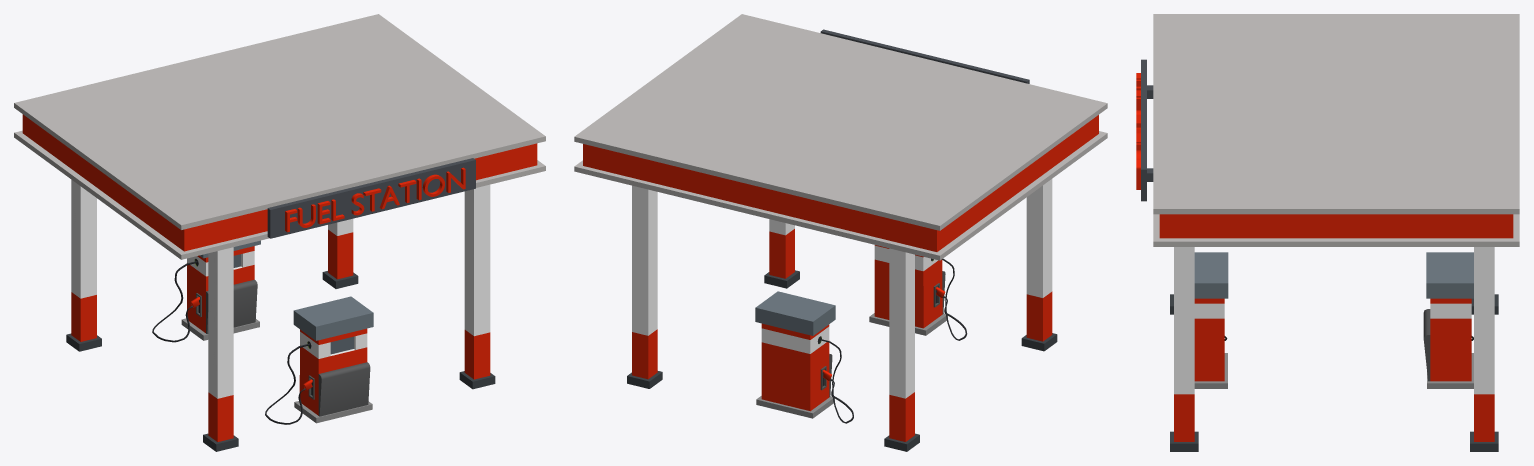
Rendered from FuelStation_1.fbx.
The picture shows the model from 3 angles, left to right: view 1: azimuth 30°, elevation 25°; view 2: azimuth 150°, elevation 25°; view 3: azimuth 270°, elevation 25°; orthographic projection. The views are drawn at different scales.
Visible parts, largest first — view 1: FuelStation_1; view 2: FuelStation_1; view 3: FuelStation_1.
Part boxes in pixels (left/top/right/bottom): FuelStation_1: left=14, top=14, right=545, bottom=451; FuelStation_1: left=574, top=14, right=1107, bottom=451; FuelStation_1: left=1136, top=14, right=1519, bottom=451.
Size of the model in its own units: 1162 by 741 by 966.
